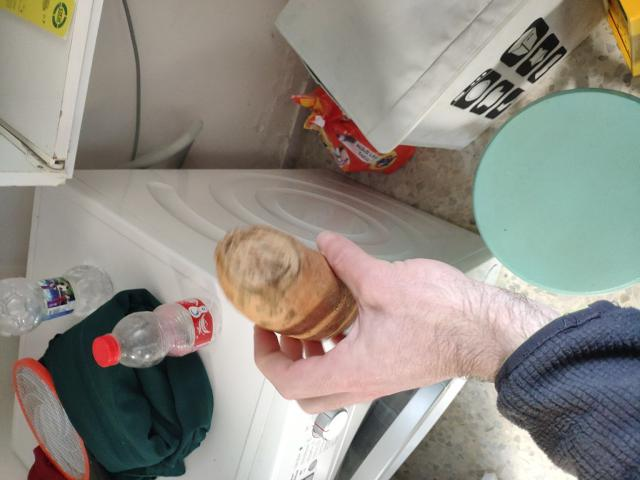sweet_potato: (214, 226, 361, 347)
